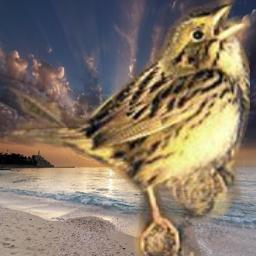Sparrow: (4, 0, 250, 256)
